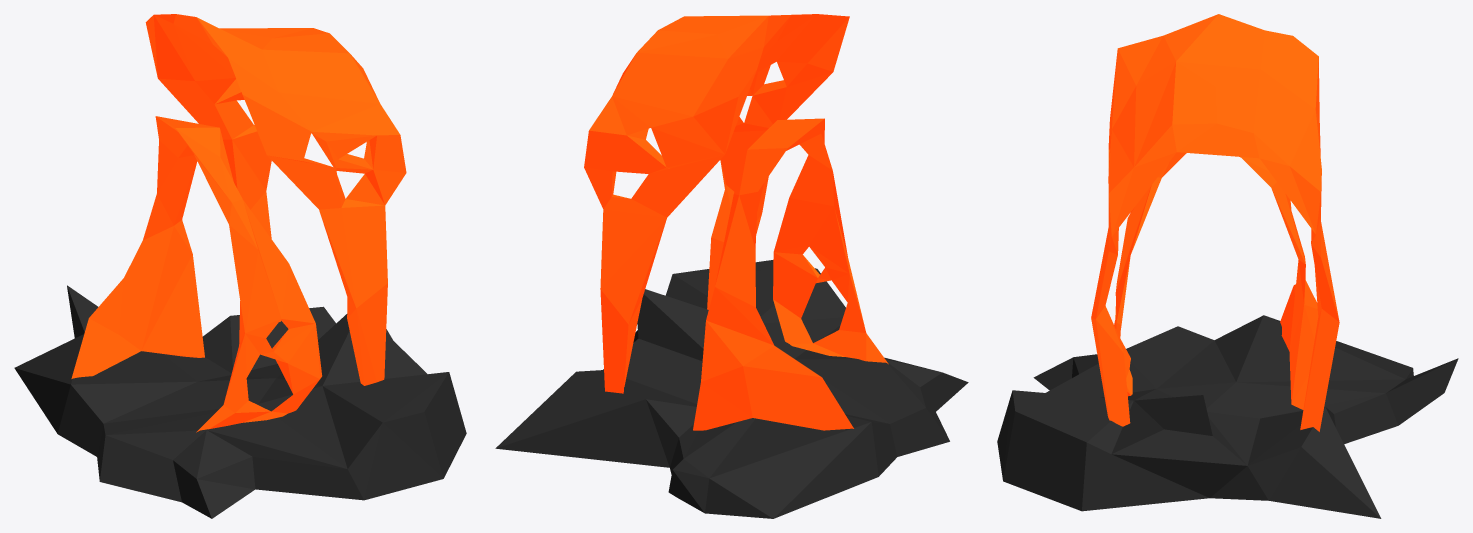
The model's file is SM_Relief_Element_04.glb.
The picture shows the model from 3 angles, left to right: view 1: azimuth 30°, elevation 25°; view 2: azimuth 150°, elevation 25°; view 3: azimuth 270°, elevation 25°; orthographic projection. The views are drawn at different scales.
Visible parts, largest first — view 1: SM_Relief_Element_04; view 2: SM_Relief_Element_04; view 3: SM_Relief_Element_04.
Boxes of the visible parts, x1,y1,x2,y2 form: SM_Relief_Element_04: (14, 14, 466, 518); SM_Relief_Element_04: (495, 14, 968, 518); SM_Relief_Element_04: (997, 14, 1458, 518).
Bounding box in the file's own units: 1.01 × 1.2 × 1.23.
Materials: 2 (1 with a texture image).
